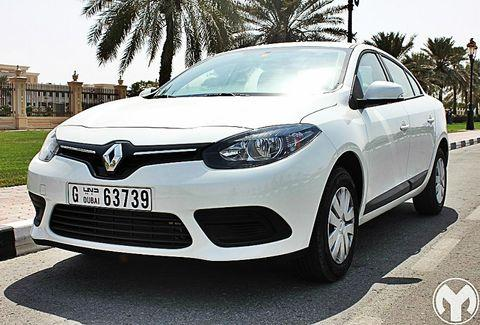Renault: (95, 137, 134, 177)
